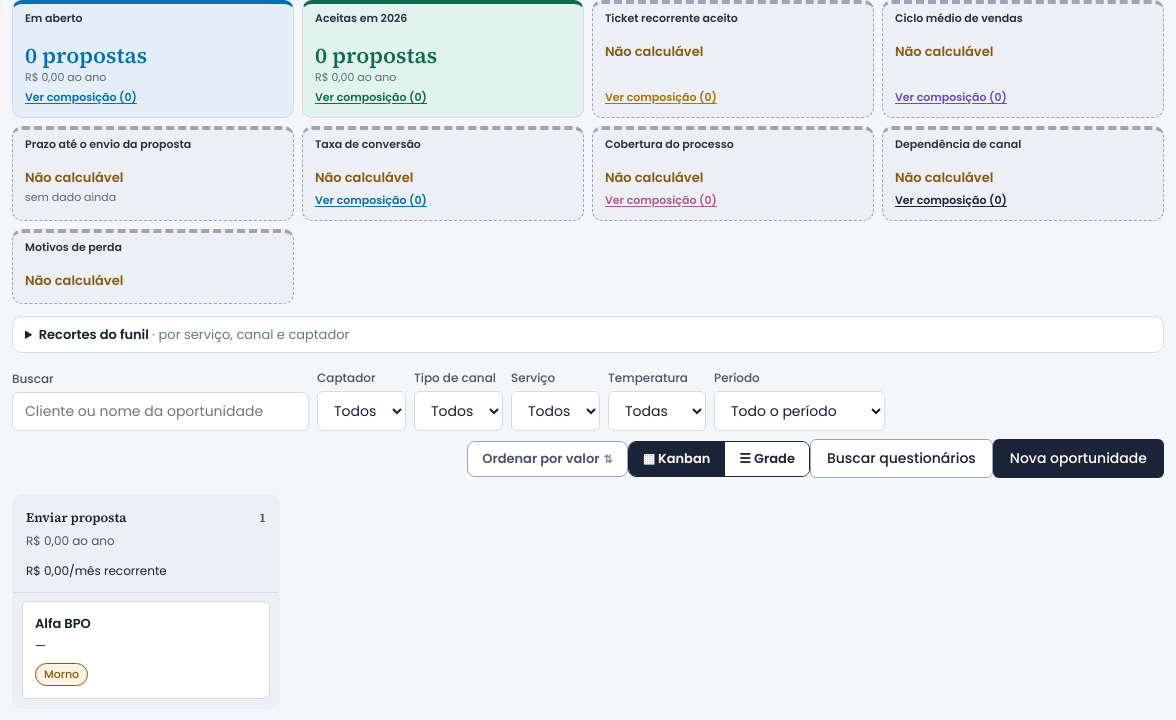
fusão Kanban/Grade (27/09/2026) › voltar para Kanban busca de novo (a visão só troca de aba, não guarda cache) e mostra o Kanban certo
Expected: the text "Enviar proposta" is shown, [26,508,126,528]
Click the button "☰ Grade" at (767, 459), box [725,442,809,476]
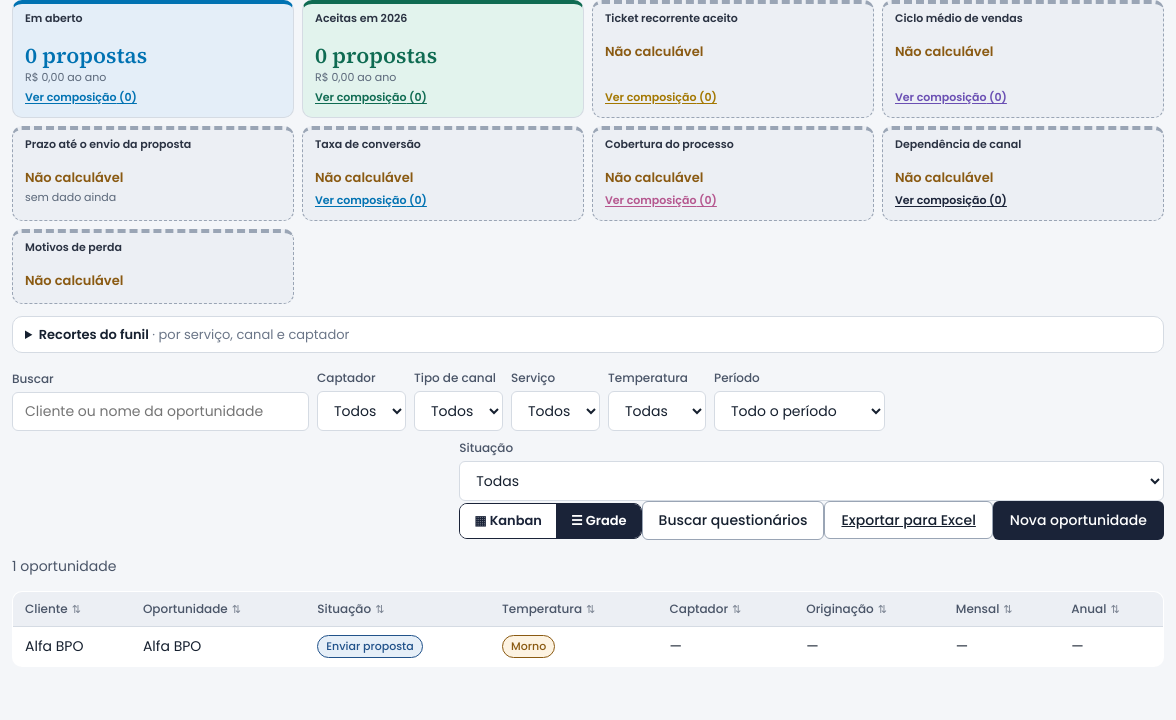
Result: the table is shown at [12,591,1164,667]
Click the button "▦ Kanban" at (509, 521), box [460,504,557,538]
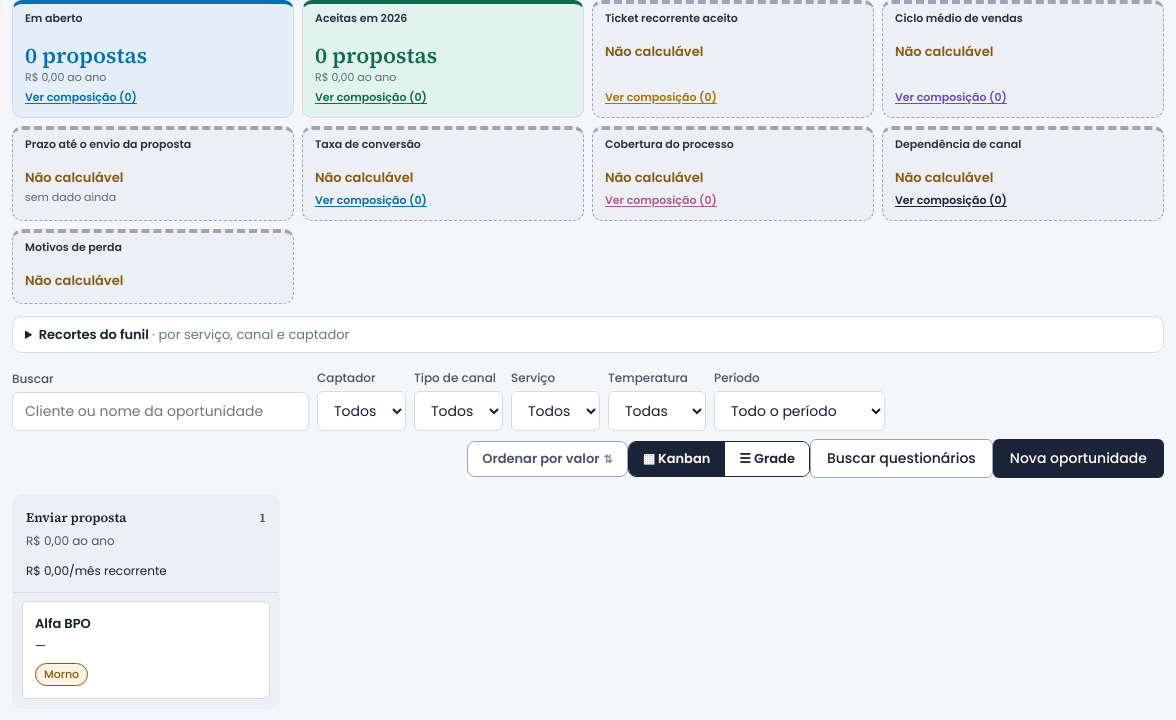
Result: the table is gone
